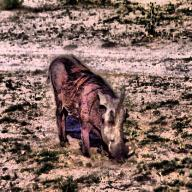boar: (46, 54, 130, 164)
